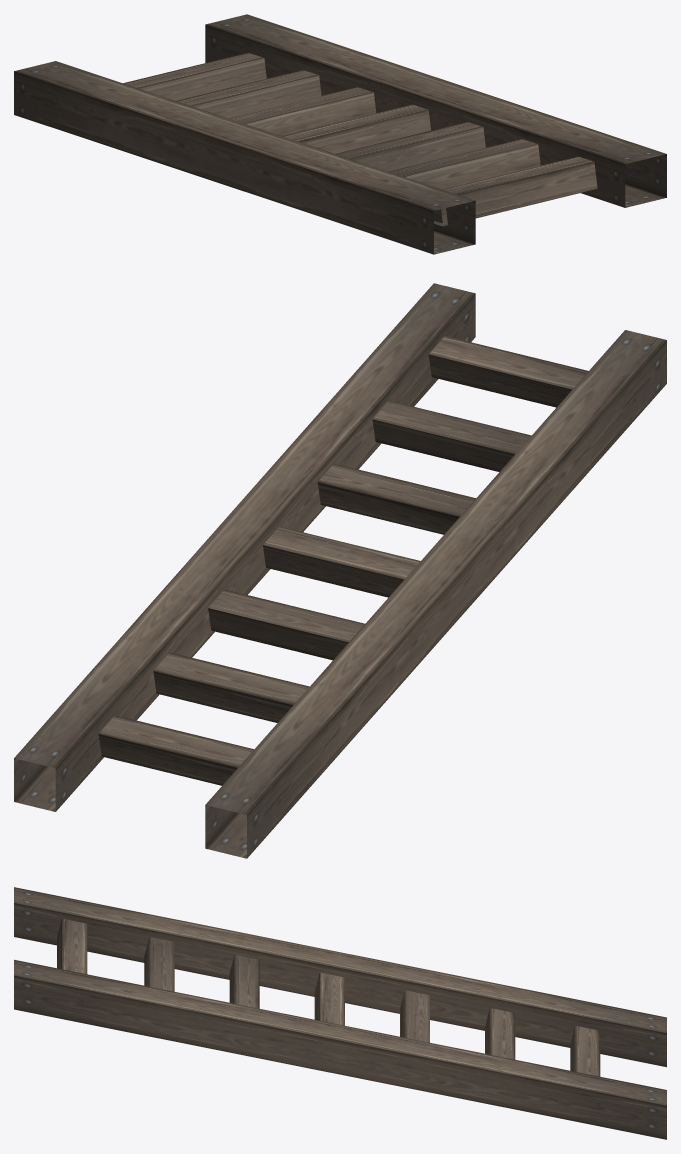
The model's file is Bed_Bunk_Ladder.fbx.
The picture shows the model from 3 angles, top to bottom: view 1: azimuth 30°, elevation 25°; view 2: azimuth 150°, elevation 25°; view 3: azimuth 270°, elevation 25°; orthographic projection. The views are drawn at different scales.
Parts seen in each view (by area): view 1: Bed_Bunk_Ladder; view 2: Bed_Bunk_Ladder; view 3: Bed_Bunk_Ladder.
Boxes of the visible parts, <box> form: Bed_Bunk_Ladder: <box>14,14,666,254</box>; Bed_Bunk_Ladder: <box>14,283,666,858</box>; Bed_Bunk_Ladder: <box>14,887,666,1139</box>.
Bounding box in the file's own units: 0.799 × 0.6924 × 2.49.
